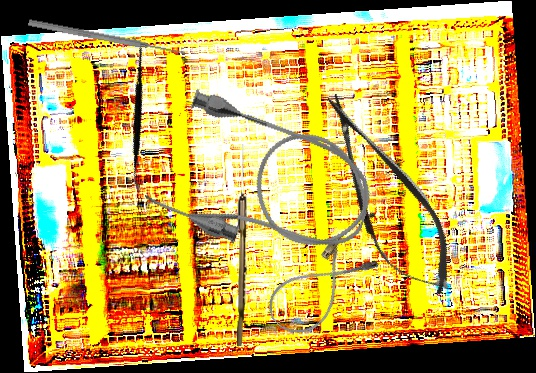Cannula: (139, 83, 388, 282), (259, 226, 382, 346)
Micro Scissor: (300, 79, 471, 311)
Pusher: (27, 17, 186, 59)
Spatula Surgical: (68, 35, 205, 194)
Surgical Spoon: (237, 144, 247, 346)
